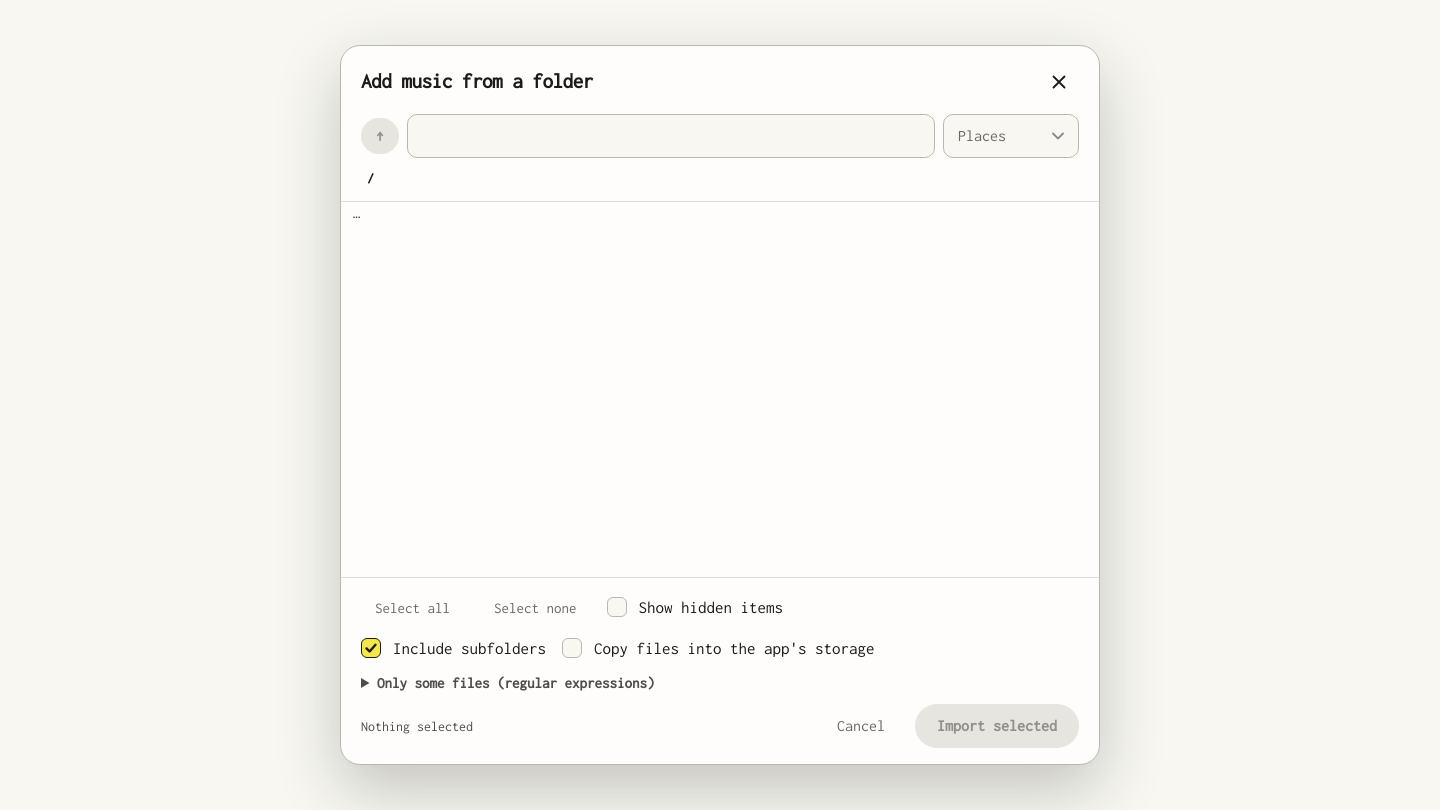
Test: FolderBrowser › a listing that arrives while the person is typing does not overwrite the path box
Type "/mnt/typed" into the field named "Folder". click: (671, 136)
box: [406,114,935,158]
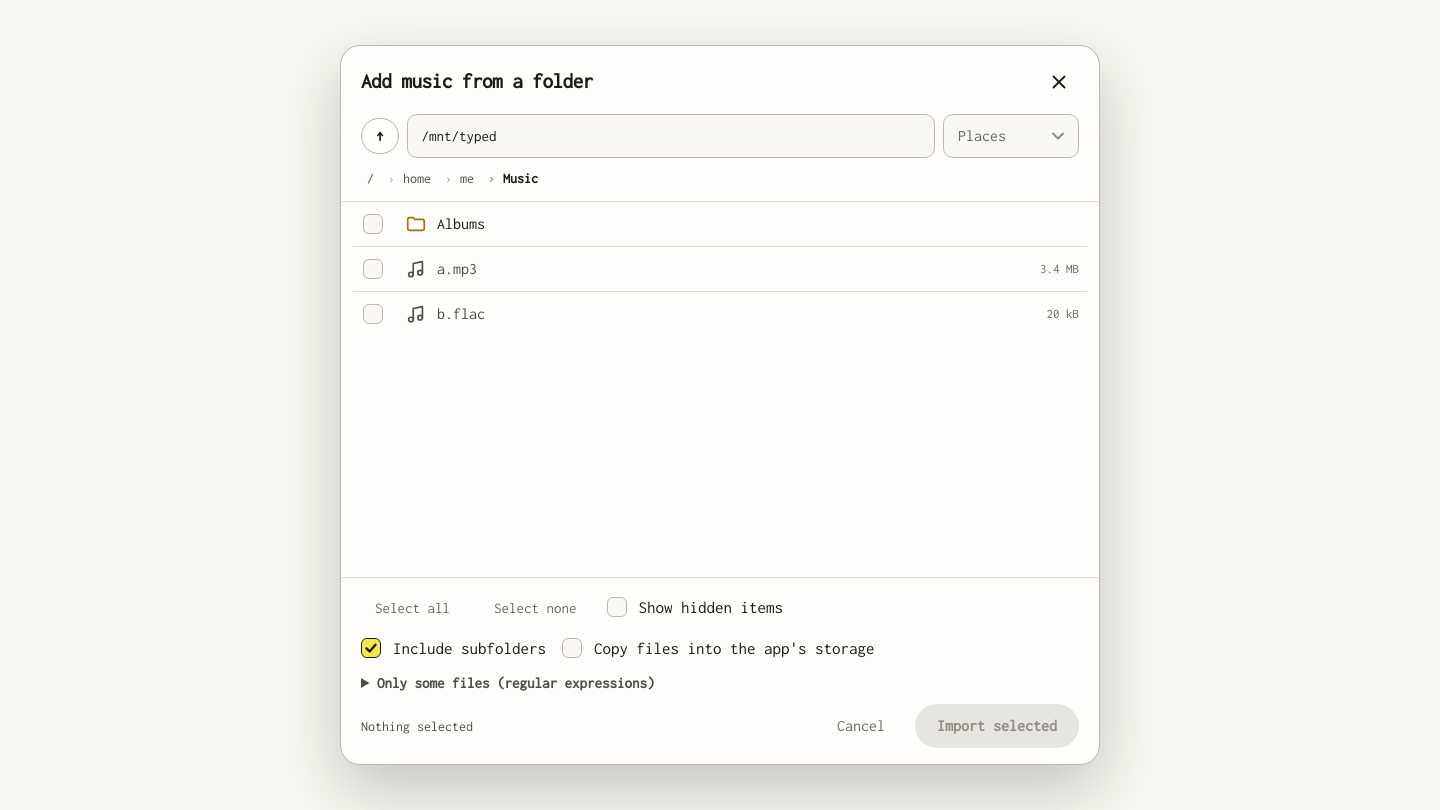
Check: the text "a.mp3" is shown, box [437,260,477,277]
